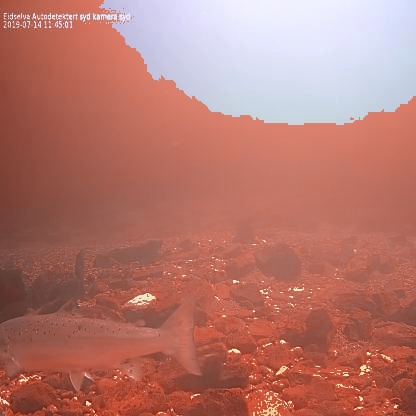salmon: (0, 292, 206, 394)
